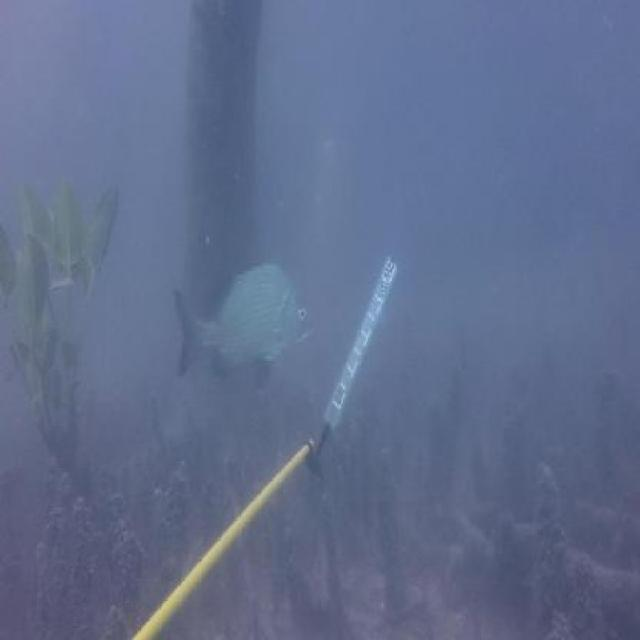acanthopagrus_palmaris: (172, 267, 318, 385)
